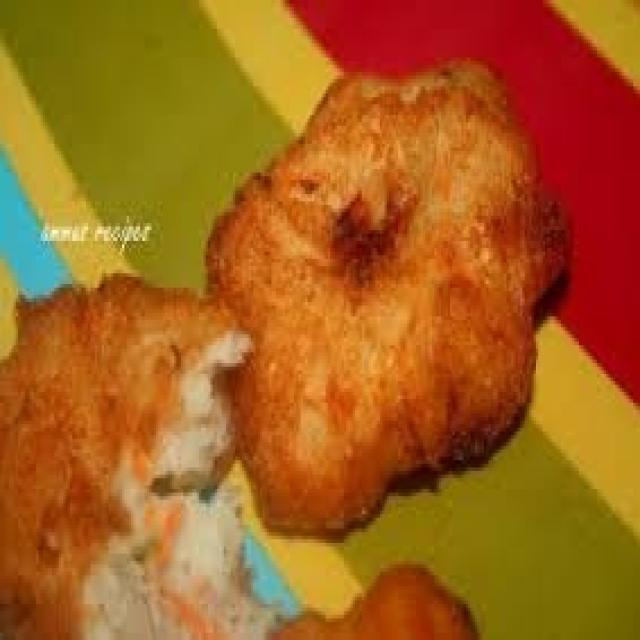medu vadai: (212, 32, 554, 530)
